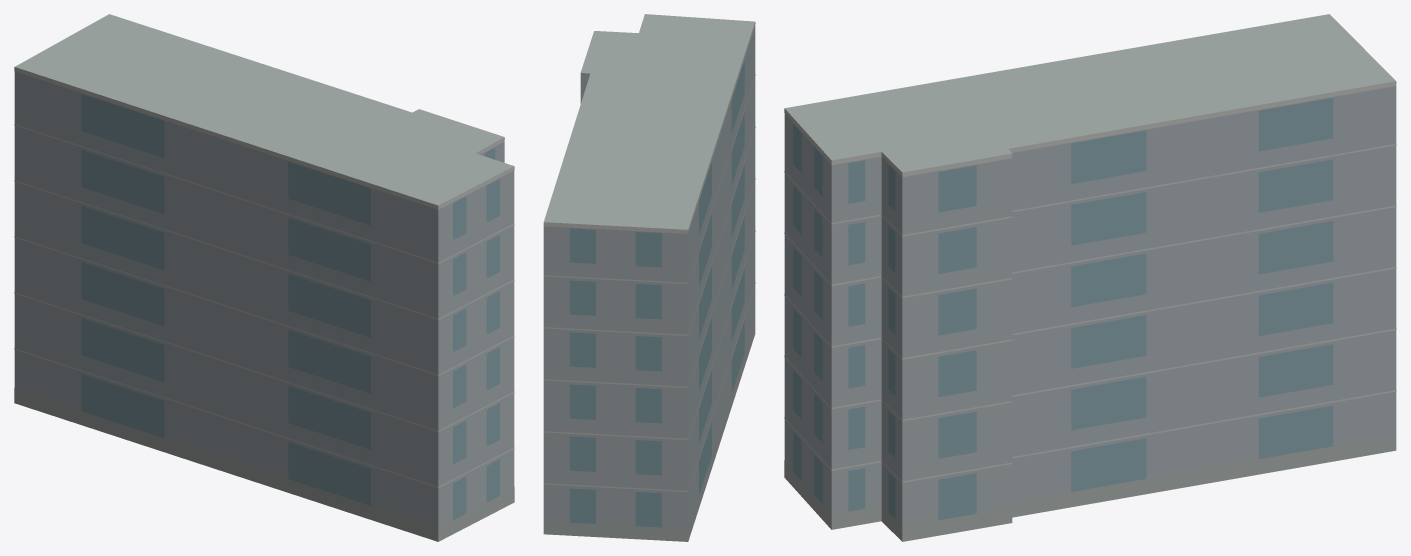
File: survey-upis-32672510.glb
3 views of the same model, side by side, from view 1: azimuth 30°, elevation 25°; view 2: azimuth 150°, elevation 25°; view 3: azimuth 270°, elevation 25° (orthographic). The views are drawn at different scales.
Parts seen in each view (by area): view 1: survey-upis-32672510.tmp; view 2: survey-upis-32672510.tmp; view 3: survey-upis-32672510.tmp.
Part boxes in pixels (<box>): survey-upis-32672510.tmp: <box>14,14,514,541</box>; survey-upis-32672510.tmp: <box>543,14,755,541</box>; survey-upis-32672510.tmp: <box>784,14,1396,541</box>.
Bounding box in the file's own units: 17.47 × 18.96 × 28.49.
